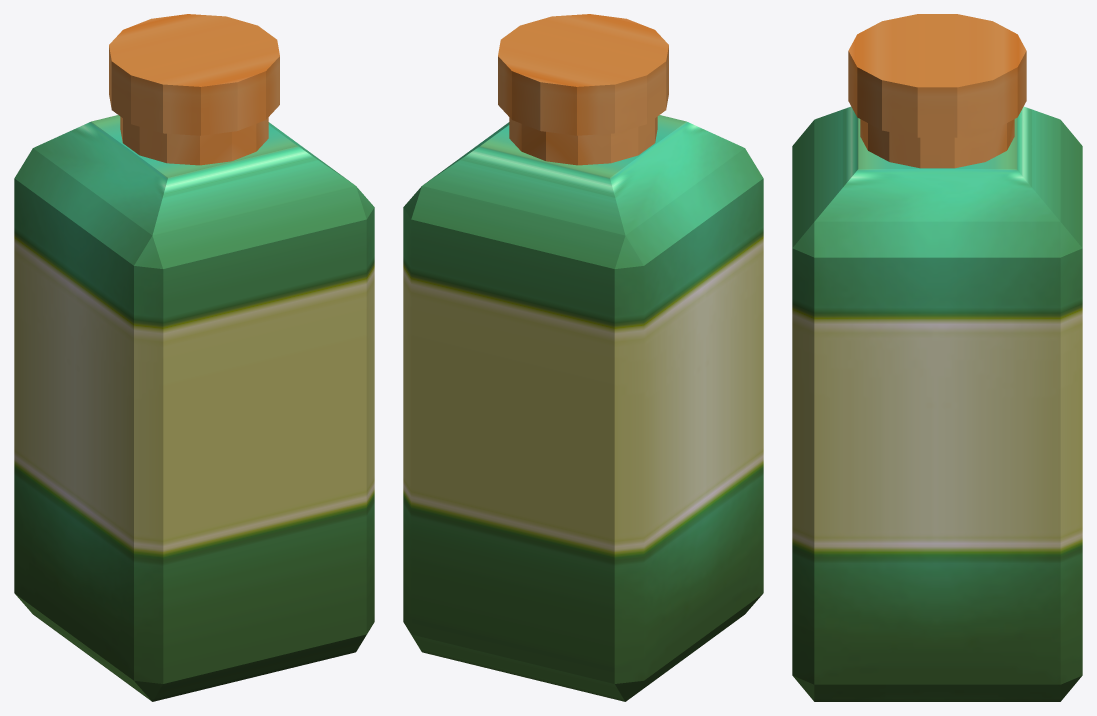
The model's file is CleaningBottle.fbx.
3 renders of one model, left to right at view 1: azimuth 30°, elevation 25°; view 2: azimuth 150°, elevation 25°; view 3: azimuth 270°, elevation 25°, orthographic. The views are drawn at different scales.
Parts seen in each view (by area): view 1: CleaningBottle; view 2: CleaningBottle; view 3: CleaningBottle.
Boxes of the visible parts, <box> form: CleaningBottle: <box>14,14,374,701</box>; CleaningBottle: <box>403,14,763,701</box>; CleaningBottle: <box>792,14,1082,701</box>.
Size of the model in its own units: 1.33 by 3.07 by 1.34.
Materials: 1 (1 with a texture image).
